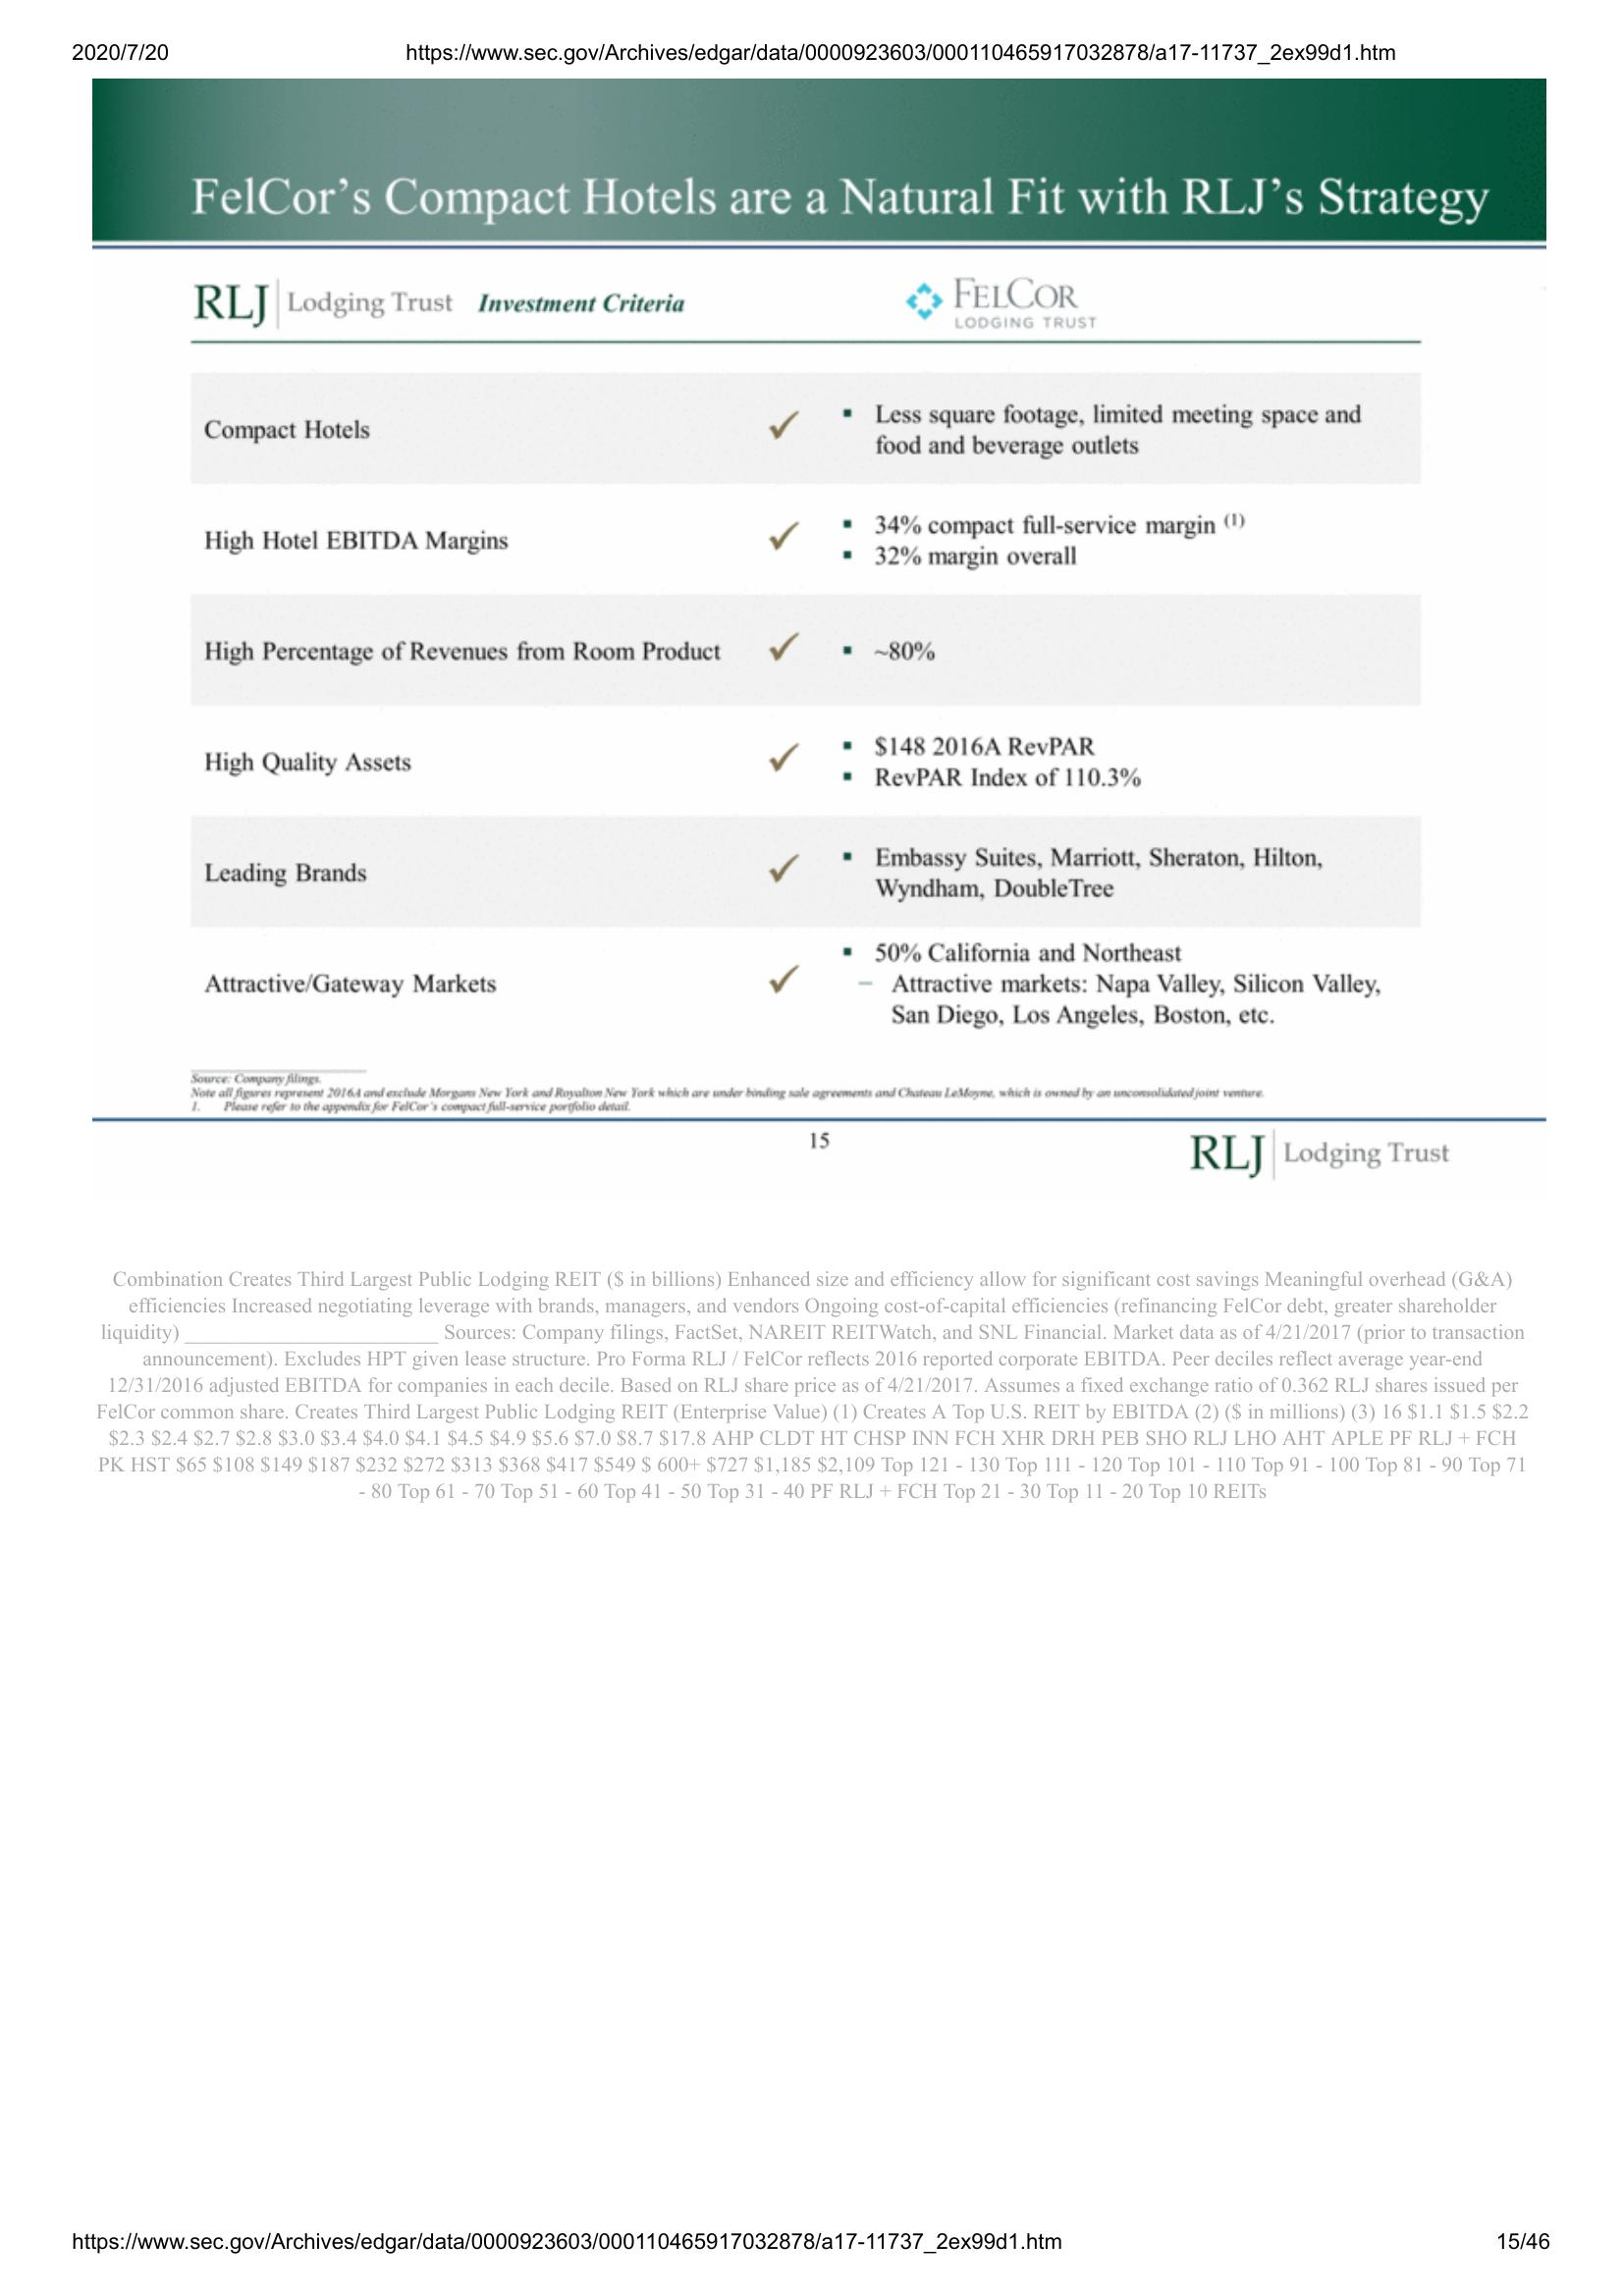table: (184, 362, 1426, 1041)
